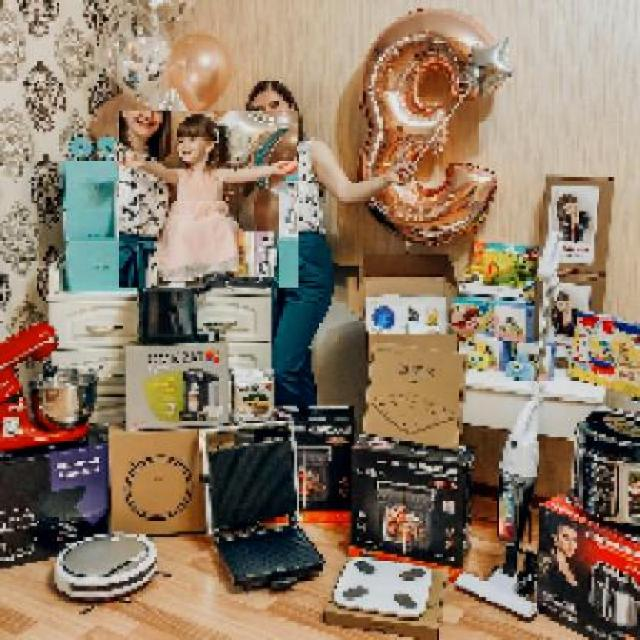child: (119, 111, 298, 289)
